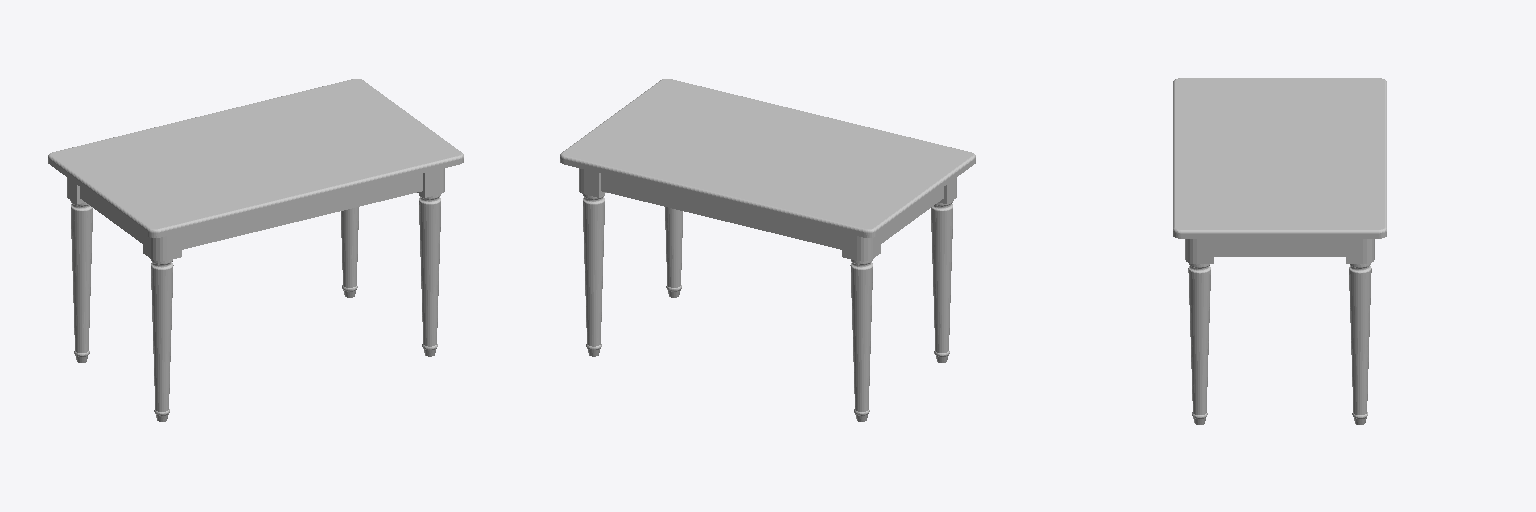
The model's file is Table N290118.obj.
3 renders of one model, left to right at view 1: azimuth 30°, elevation 25°; view 2: azimuth 150°, elevation 25°; view 3: azimuth 270°, elevation 25°, orthographic.
Visible parts, largest first — view 1: _DGeom_507, _DGeom_508, _DGeom_504, _DGeom_505, _DGeom_503, _DGeom_506, _DGeom_514; view 2: _DGeom_507, _DGeom_515, _DGeom_503, _DGeom_506, _DGeom_504, _DGeom_505, _DGeom_514; view 3: _DGeom_507, _DGeom_505, _DGeom_506, _DGeom_513.
Boxes of the visible parts, x1=… form: _DGeom_507: x1=48, y1=79, x2=463, y2=237; _DGeom_508: x1=182, y1=174, x2=422, y2=249; _DGeom_504: x1=143, y1=232, x2=181, y2=421; _DGeom_505: x1=417, y1=168, x2=444, y2=356; _DGeom_503: x1=67, y1=178, x2=92, y2=362; _DGeom_506: x1=341, y1=207, x2=358, y2=297; _DGeom_514: x1=80, y1=187, x2=142, y2=243; _DGeom_507: x1=560, y1=79, x2=975, y2=237; _DGeom_515: x1=601, y1=174, x2=841, y2=249; _DGeom_503: x1=842, y1=232, x2=880, y2=421; _DGeom_506: x1=579, y1=168, x2=606, y2=356; _DGeom_504: x1=931, y1=178, x2=956, y2=362; _DGeom_505: x1=665, y1=207, x2=682, y2=297; _DGeom_514: x1=881, y1=187, x2=943, y2=243; _DGeom_507: x1=1173, y1=78, x2=1386, y2=238; _DGeom_505: x1=1185, y1=239, x2=1213, y2=424; _DGeom_506: x1=1346, y1=239, x2=1374, y2=424; _DGeom_513: x1=1214, y1=239, x2=1345, y2=256.
Bounding box in the file's own units: 127 × 78.5 × 75.